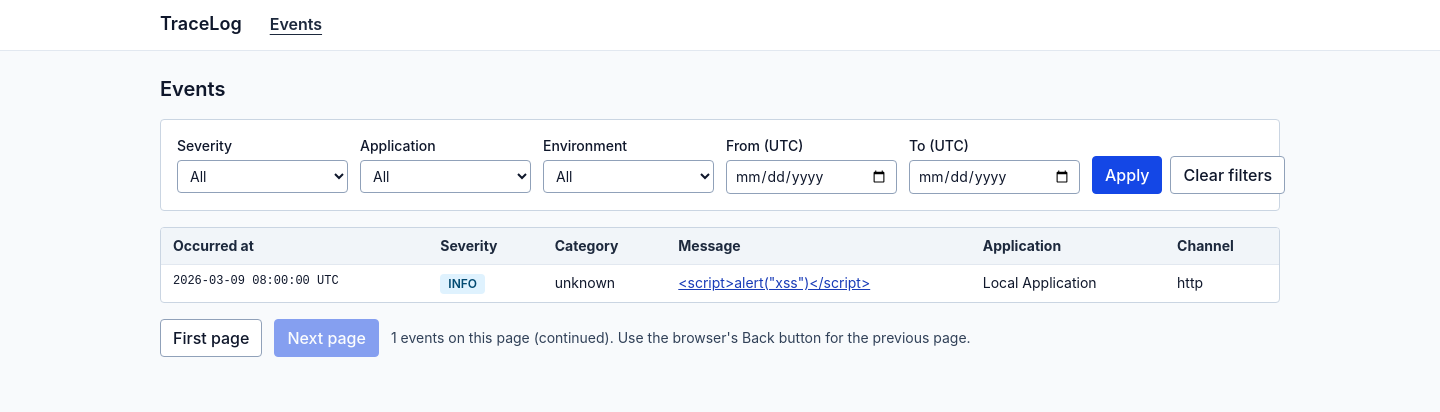
Test case: Events screen › applies filters into the URL, writing only what is set and dropping the cursor
Check: the table is shown, box x1=161 y1=228 x2=1279 y2=302
Select "fatal" in the dropdown labelled "Severity" at {"x": 262, "y": 176}, box x1=177 y1=160 x2=348 y2=193
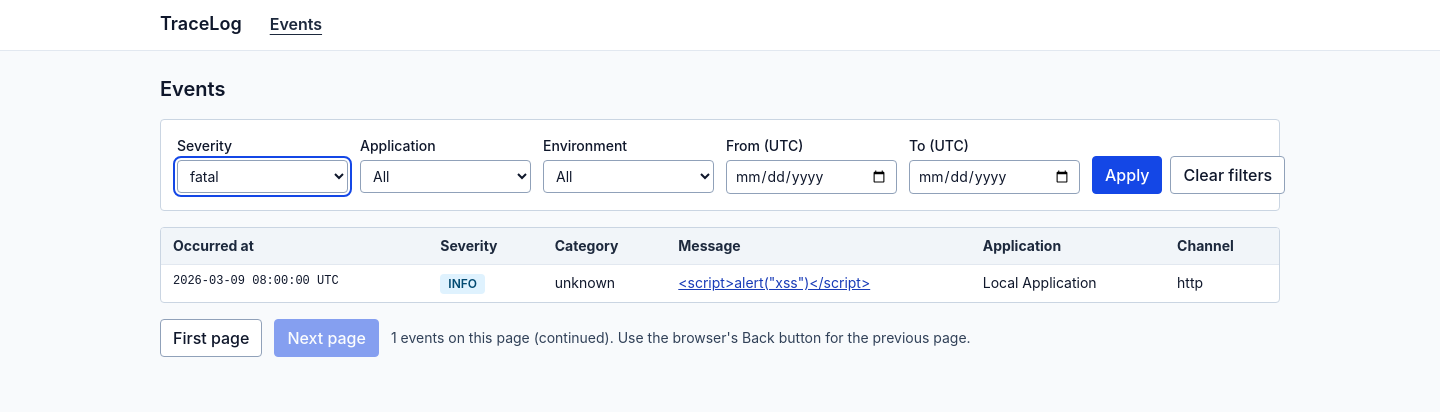
Type "2026-03-10" into the date field labelled "From (UTC)" at {"x": 812, "y": 177}, box x1=726 y1=160 x2=897 y2=194
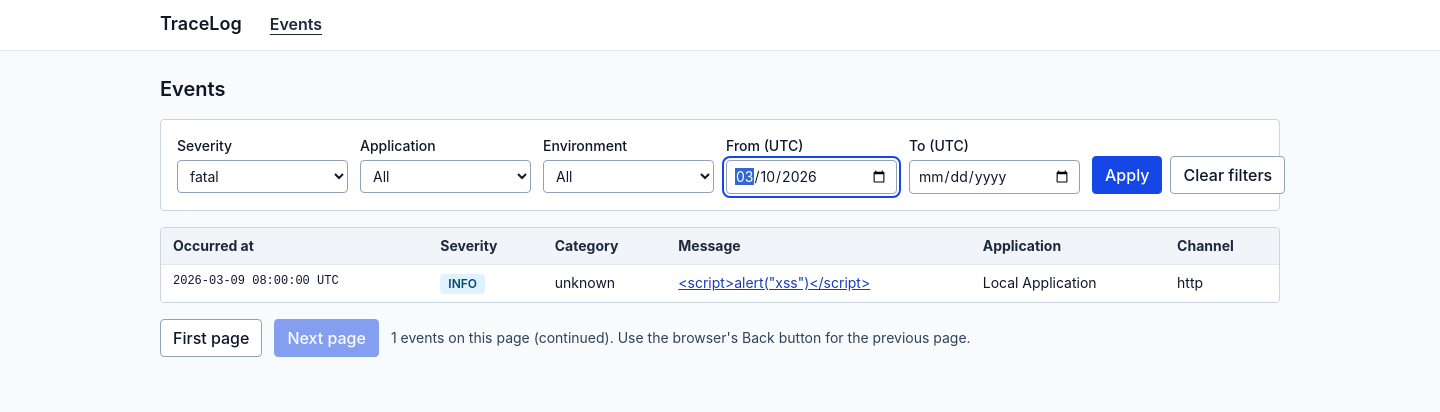
Click the button "Apply" at {"x": 1127, "y": 175}, box x1=1092 y1=156 x2=1162 y2=194
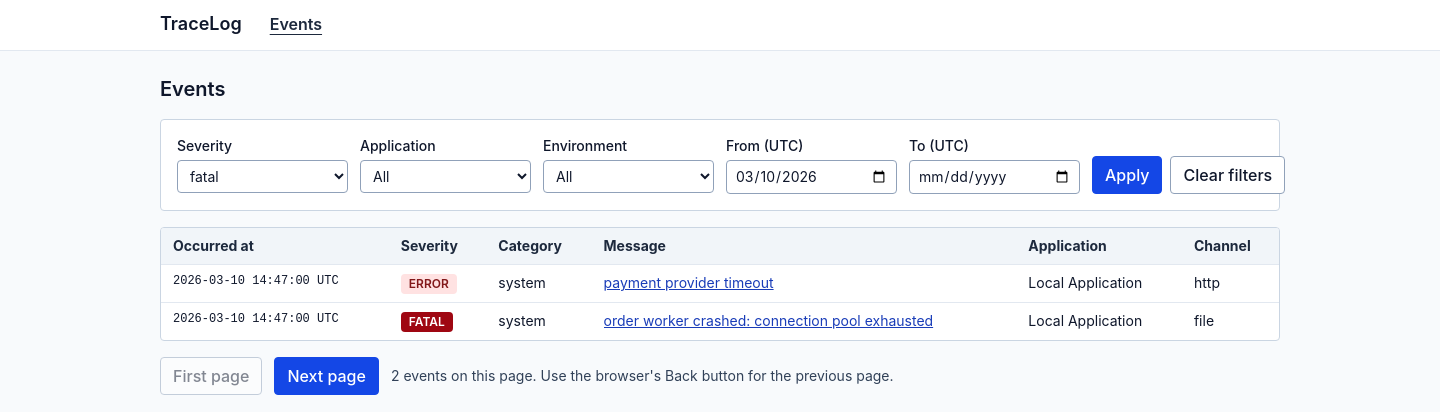
Click the button "Clear filters" at {"x": 1228, "y": 175}, box x1=1170 y1=156 x2=1285 y2=194
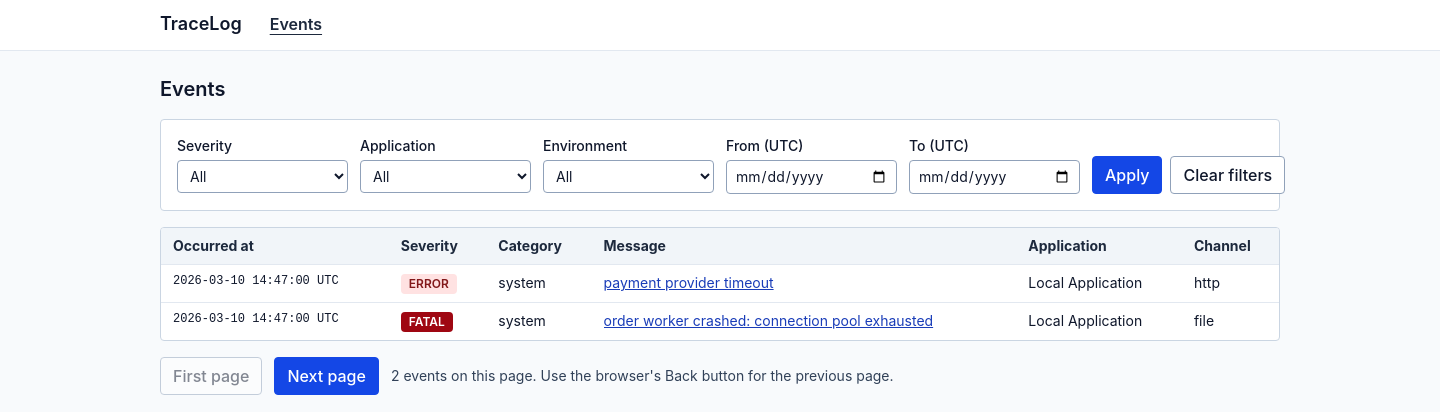
Check: the dropdown labelled "Severity" shows "All", box x1=177 y1=160 x2=348 y2=193
